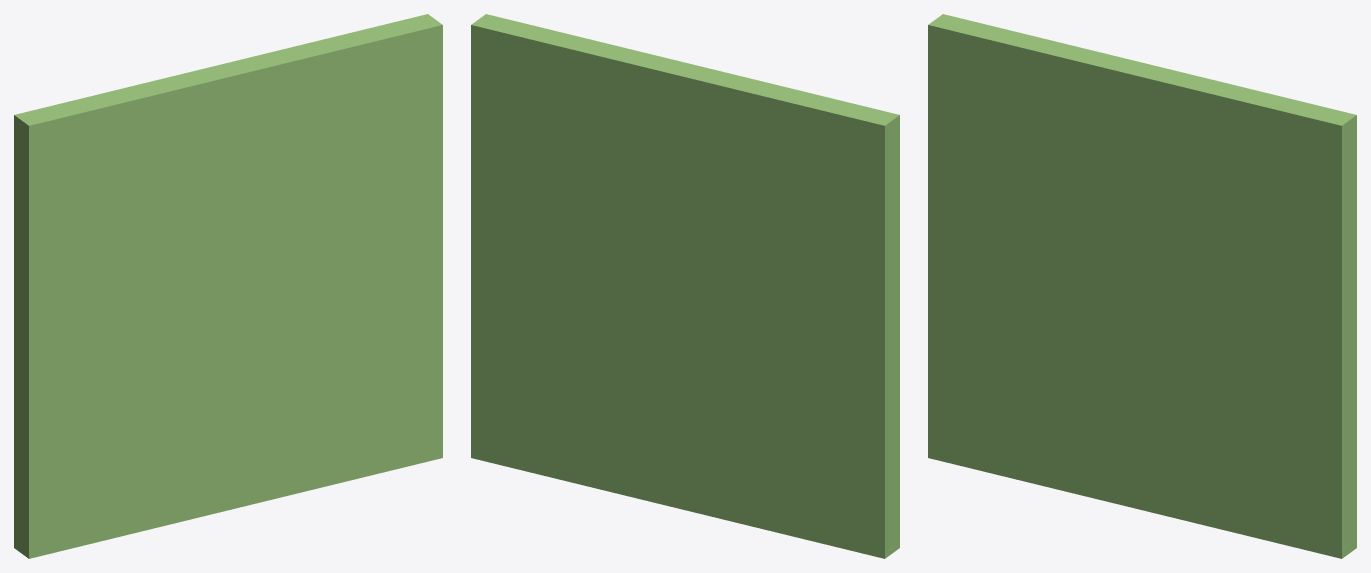
3 renders of one model, left to right at view 1: azimuth 30°, elevation 25°; view 2: azimuth 150°, elevation 25°; view 3: azimuth 330°, elevation 25°, orthographic.
Bounding box in the file's own units: 16 × 16 × 1.
